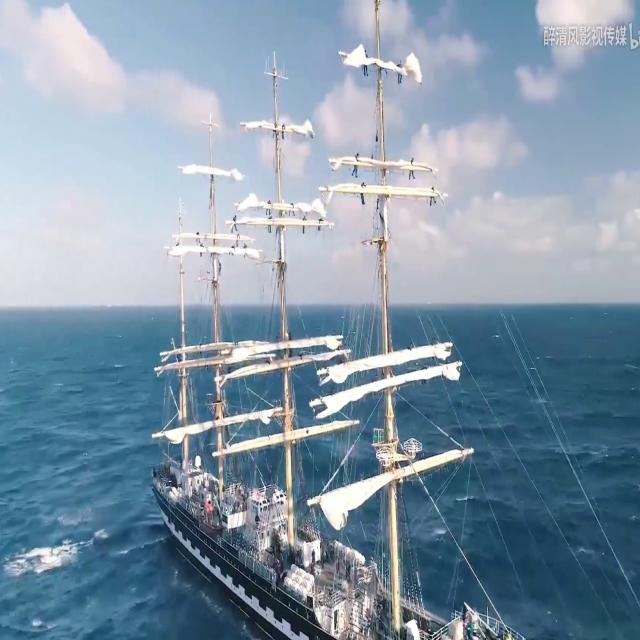sailboat: (139, 28, 640, 640)
